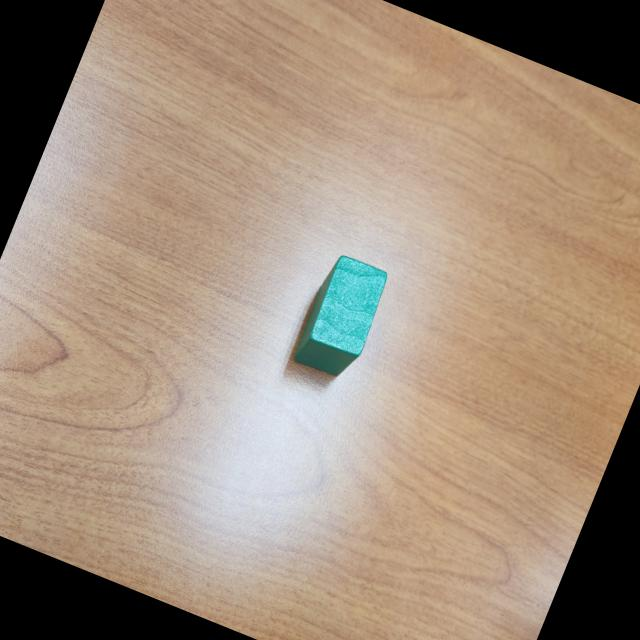green: (289, 249, 393, 384)
